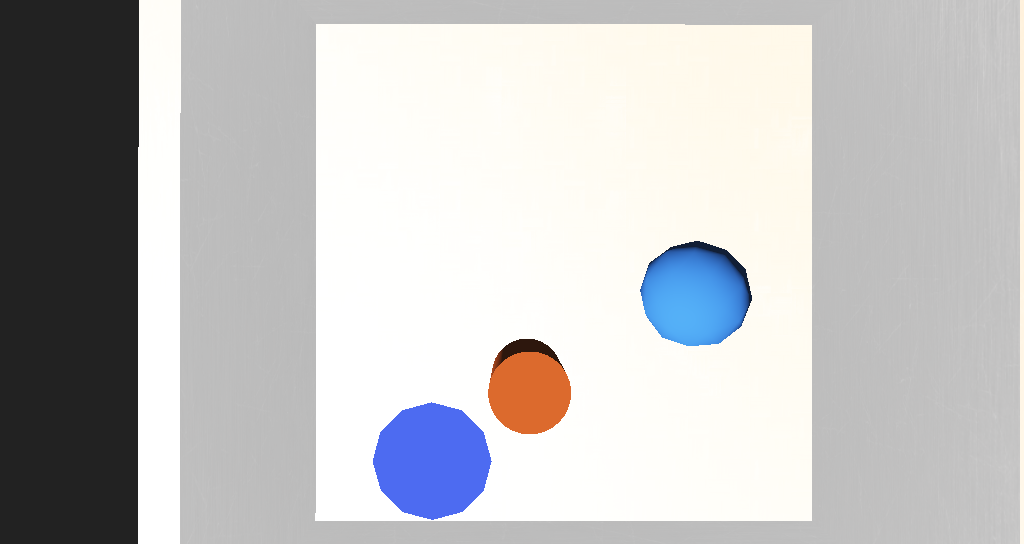cone: (461, 296, 509, 334)
cylinder: (401, 315, 461, 363)
sphere: (546, 253, 613, 301)
